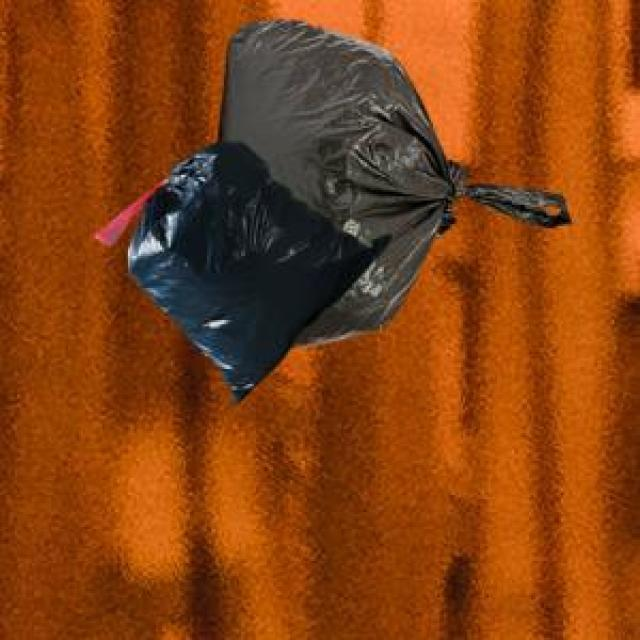waste: (128, 21, 570, 398)
